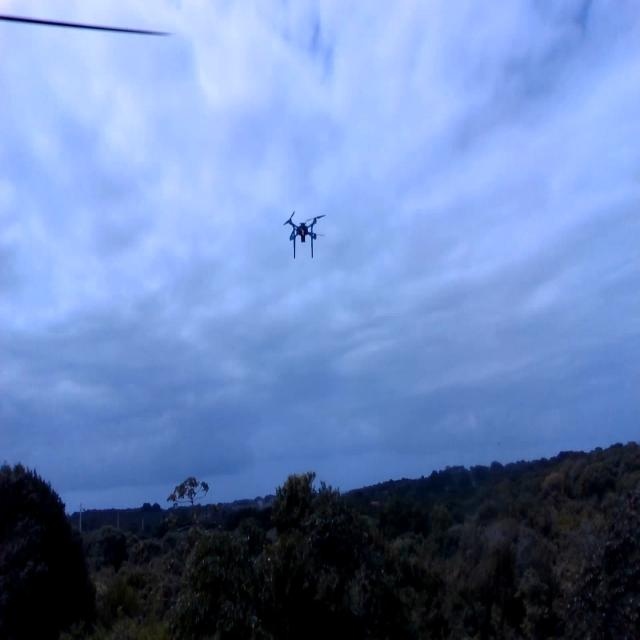-uav-: (276, 204, 342, 286)
